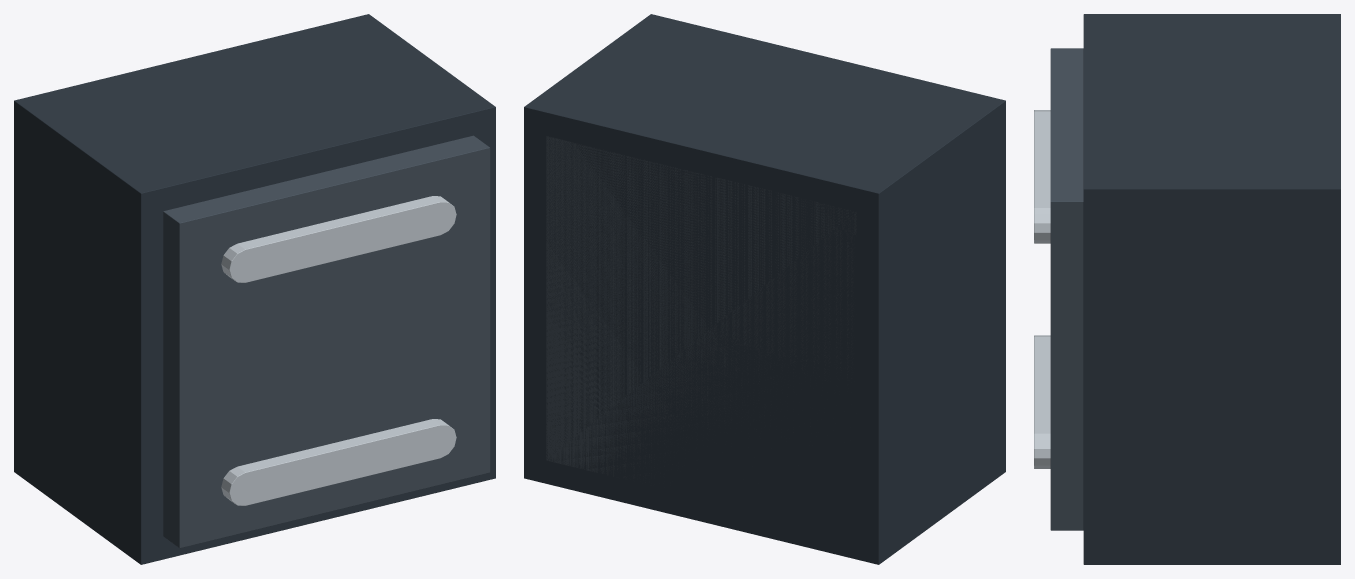
Rendered from LockWall_Tile.gltf.
3 renders of one model, left to right at view 1: azimuth 30°, elevation 25°; view 2: azimuth 150°, elevation 25°; view 3: azimuth 270°, elevation 25°, orthographic.
Parts seen in each view (by area): view 1: LockWall_Tile_baked; view 2: LockWall_Tile_baked; view 3: LockWall_Tile_baked.
Part boxes in pixels (x1,y1,x2,y2): LockWall_Tile_baked: (14, 14, 495, 564); LockWall_Tile_baked: (524, 14, 1005, 564); LockWall_Tile_baked: (1034, 14, 1340, 564).
Bounding box in the file's own units: 1 × 1 × 0.74.
